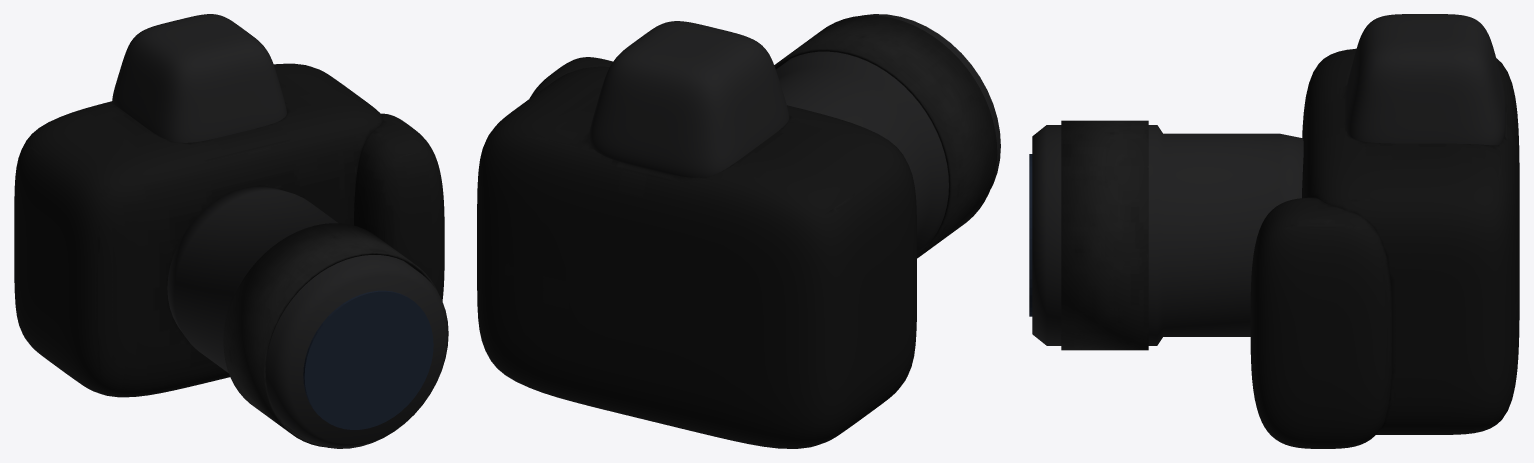
Rendered from dslr.glb.
3 renders of one model, left to right at view 1: azimuth 30°, elevation 25°; view 2: azimuth 150°, elevation 25°; view 3: azimuth 270°, elevation 25°, orthographic. The views are drawn at different scales.
Visible parts, largest first — view 1: leatherette, camera_body, lens_coat, rubber; view 2: leatherette, camera_body, rubber; view 3: leatherette, camera_body, rubber, lens_coat.
Boxes of the visible parts, x1,y1,x2,y2 form: leatherette: (14,63,444,397); camera_body: (112,14,448,448); lens_coat: (303,290,433,429); rubber: (223,223,438,447); leatherette: (477,57,916,448); camera_body: (589,14,1000,252); rubber: (774,15,997,258); leatherette: (1250,48,1519,448); camera_body: (1032,14,1505,345); rubber: (1061,120,1148,350); lens_coat: (1029,154,1032,316).
Bounding box in the file's own units: 0.1475 × 0.13 × 0.1685.
4 materials, 2 textured.
